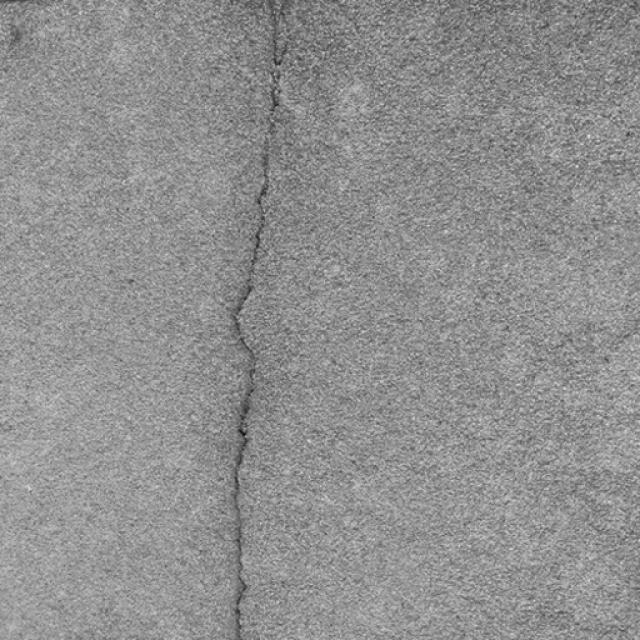SurfaceCrack: (174, 0, 342, 639)
